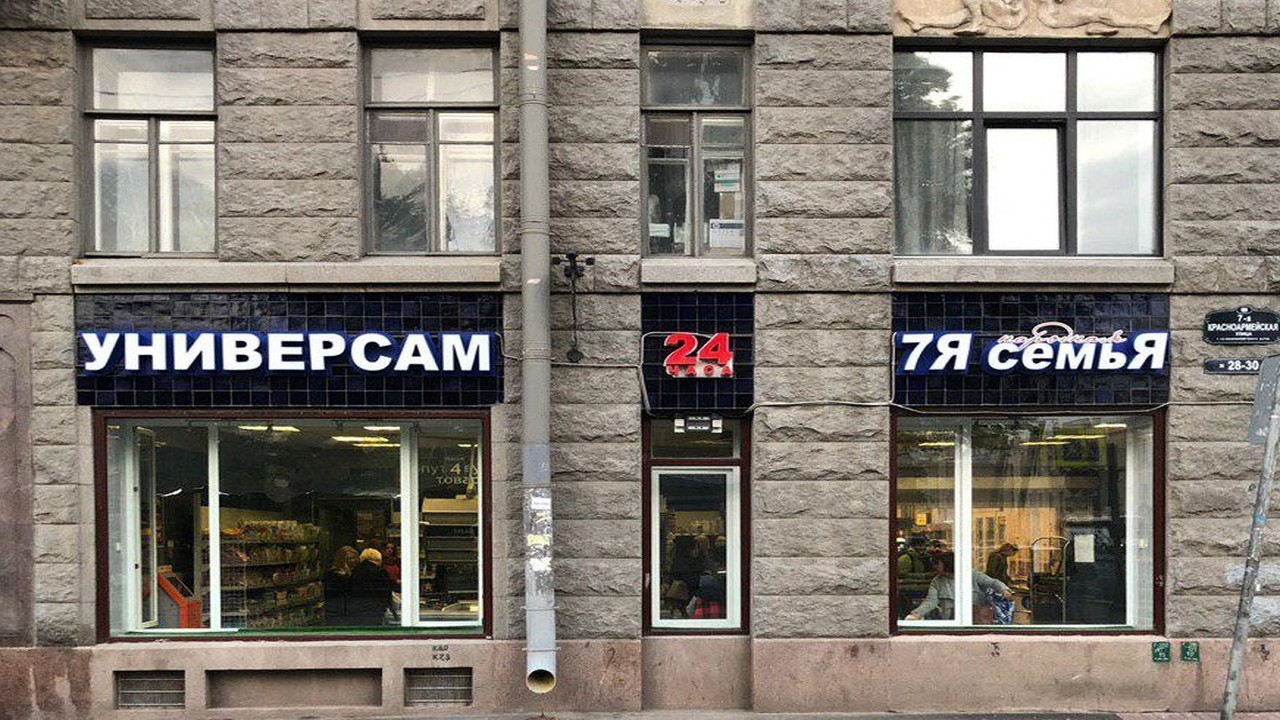signboard: (73, 328, 492, 381), (896, 327, 1172, 376), (657, 326, 740, 384)
window: (95, 402, 491, 635), (890, 412, 1163, 637), (892, 37, 1165, 259), (80, 40, 212, 259), (369, 38, 496, 256), (644, 35, 752, 258), (643, 413, 744, 639)
